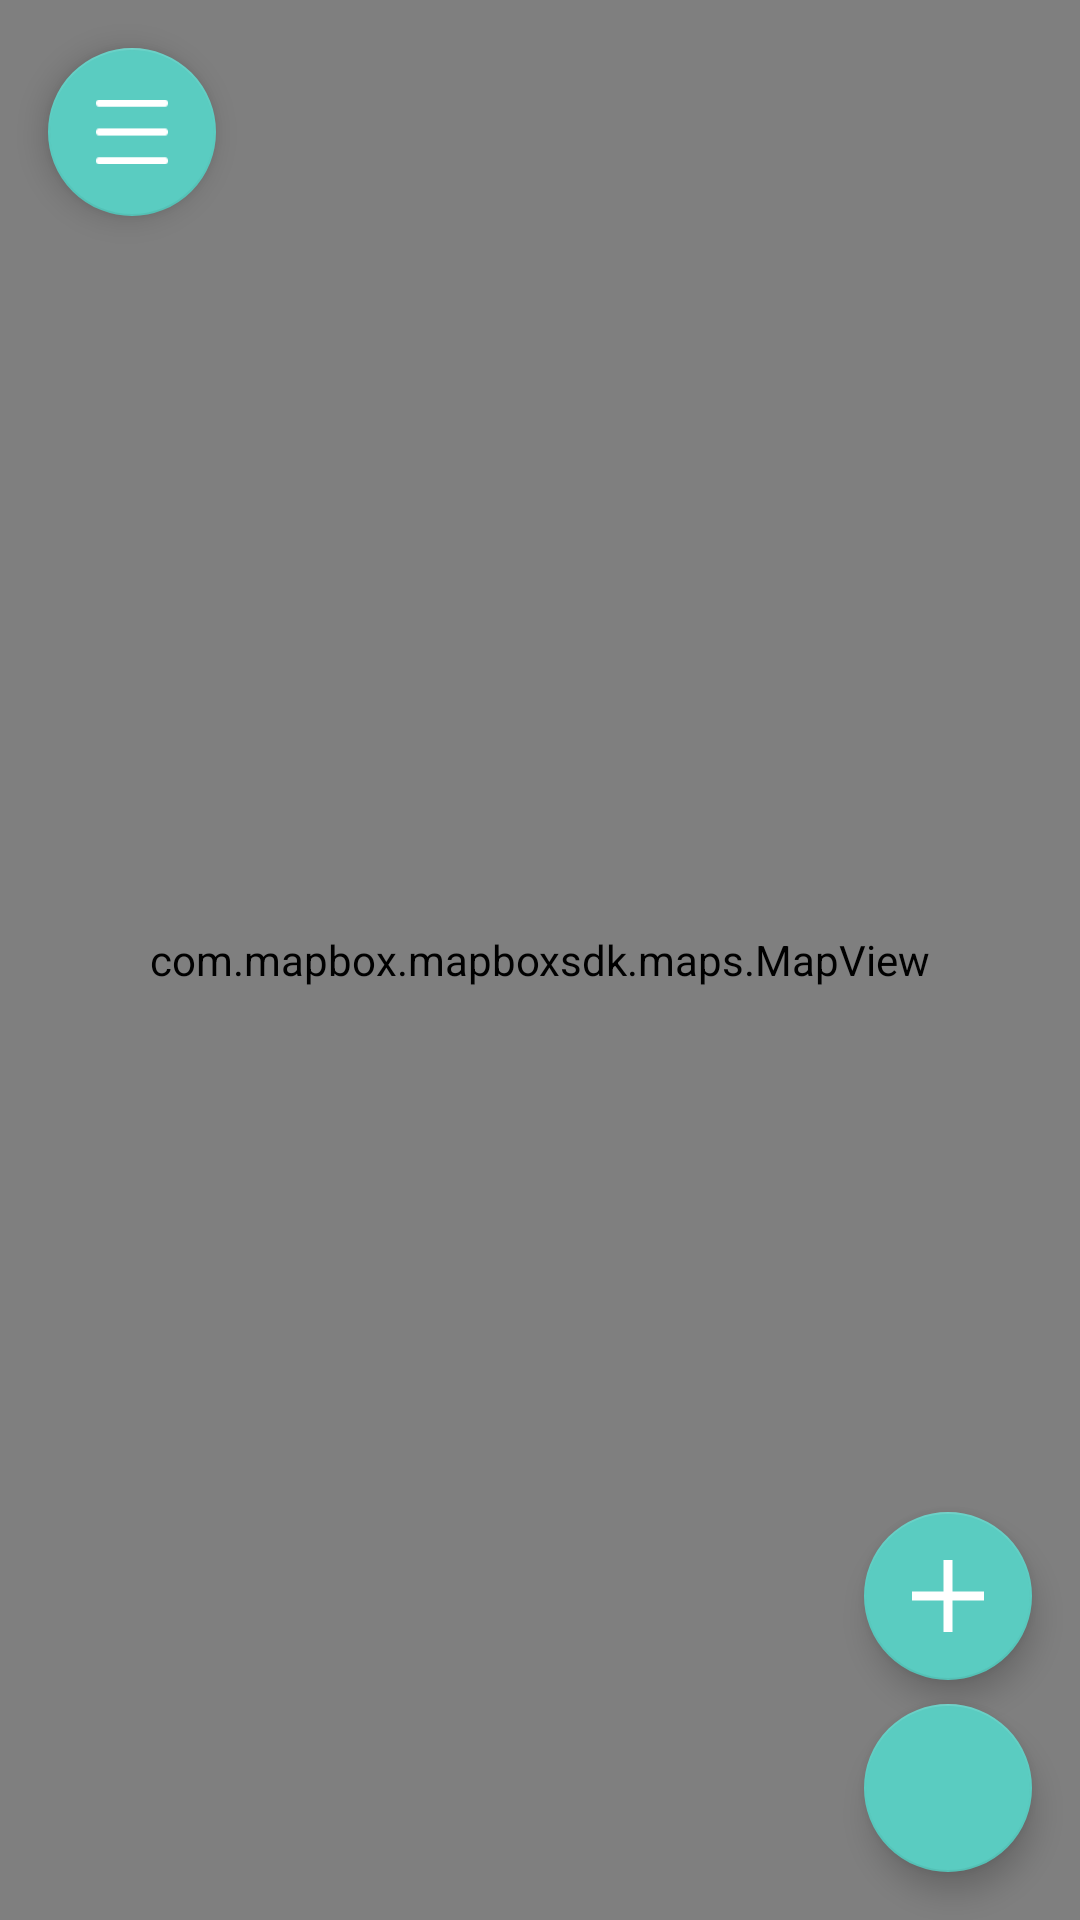

Icons on this 1080×1920 Android screen, each with its box as [left=x1, top=y1, right=x2, bottom=y2]:
menu: [left=48, top=48, right=216, bottom=216]
